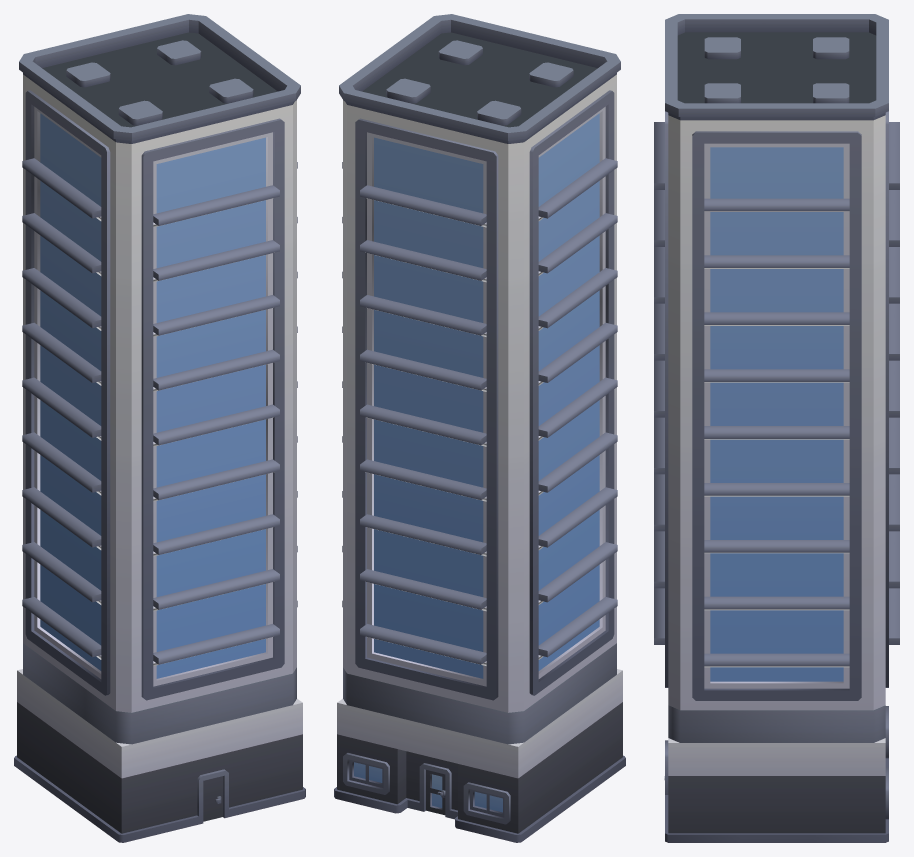
Rendered from k-city-kit-commercial-building-skyscraper-b.glb.
The picture shows the model from 3 angles, left to right: view 1: azimuth 30°, elevation 25°; view 2: azimuth 150°, elevation 25°; view 3: azimuth 270°, elevation 25°; orthographic projection. The views are drawn at different scales.
Parts seen in each view (by area): view 1: building-skyscraper-b; view 2: building-skyscraper-b; view 3: building-skyscraper-b.
Part boxes in pixels (x1=…): building-skyscraper-b: x1=14, y1=14, x2=305, y2=842; building-skyscraper-b: x1=334, y1=14, x2=625, y2=842; building-skyscraper-b: x1=654, y1=14, x2=899, y2=842.
Size of the model in its own units: 1.36 by 4.48 by 1.36.
Materials: 1 (1 with a texture image).
